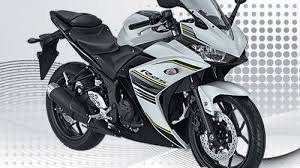motor: (26, 4, 276, 168)
